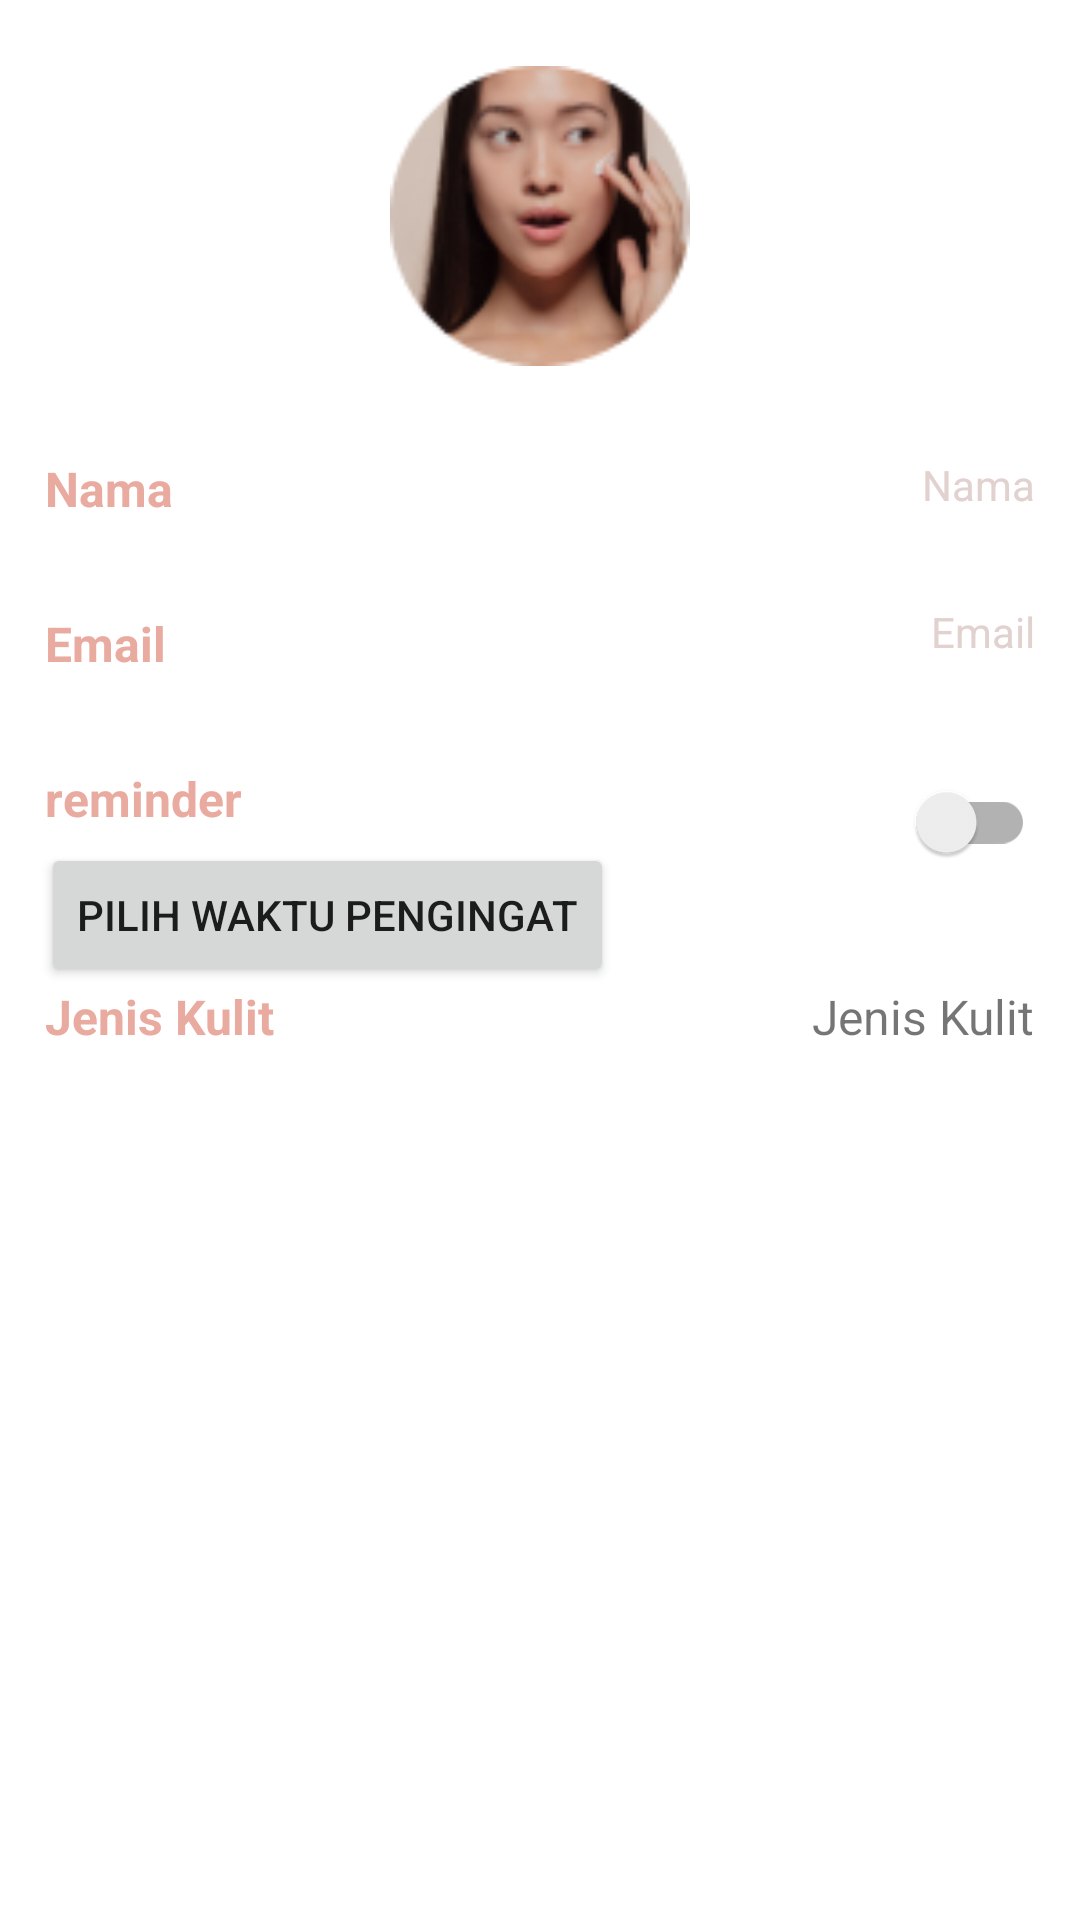

Screen size 1080px×1920px. Icon name, then its box in pixels as (x1, y1, x2, y2):
profile: (390, 66, 690, 366)
